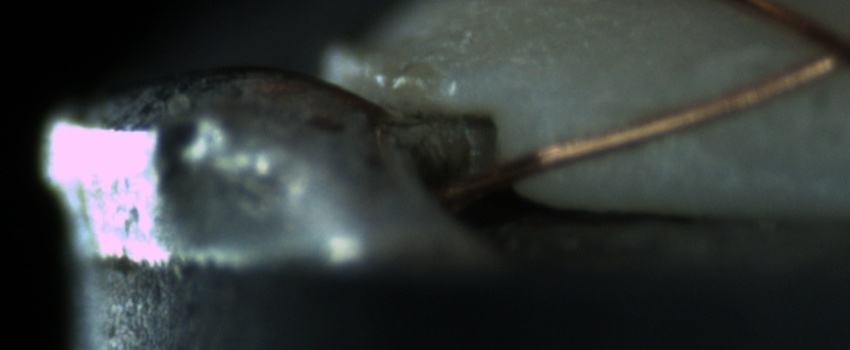CL: (796, 14, 849, 80)
